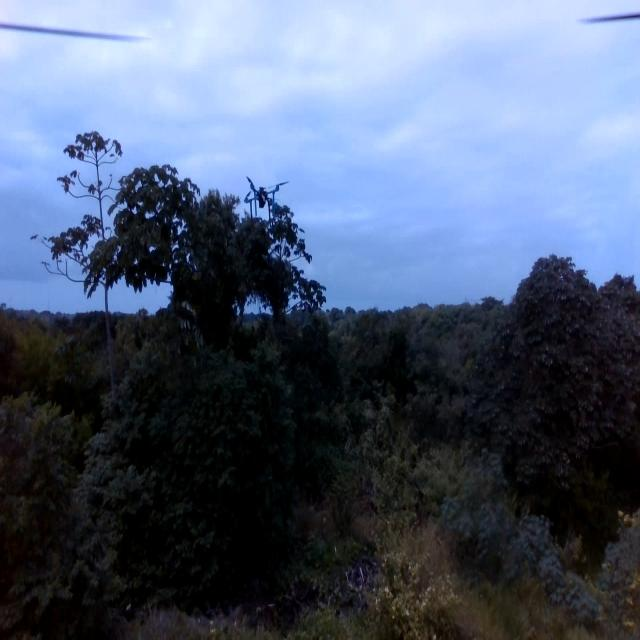-uav-: (238, 172, 292, 227)
